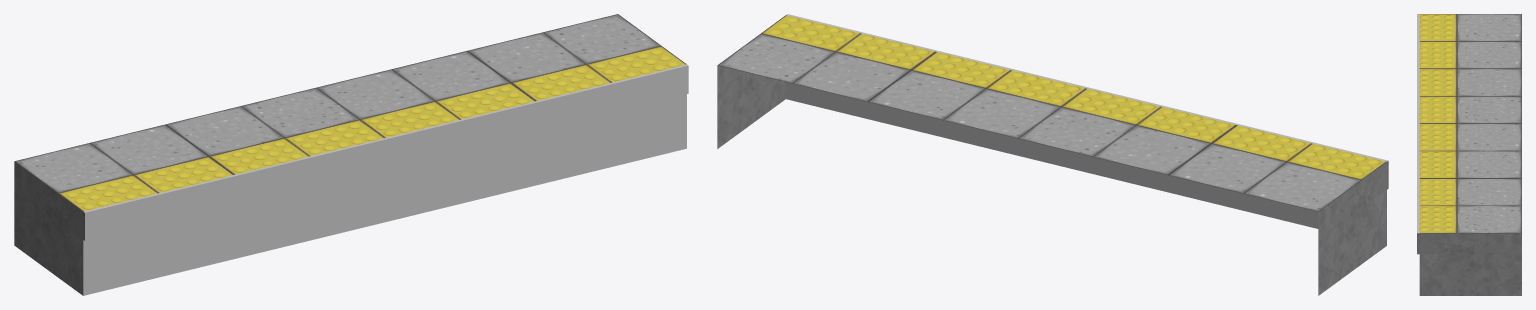
The model's file is SM_Platform_Stop_8m.fbx.
3 views of the same model, side by side, from view 1: azimuth 30°, elevation 25°; view 2: azimuth 150°, elevation 25°; view 3: azimuth 270°, elevation 25° (orthographic). The views are drawn at different scales.
Parts seen in each view (by area): view 1: SM_Platform_Stop_8m; view 2: SM_Platform_Stop_8m; view 3: SM_Platform_Stop_8m.
Boxes of the visible parts, box(x1,y1,x2,y2) form: SM_Platform_Stop_8m: box(14, 14, 688, 295); SM_Platform_Stop_8m: box(717, 14, 1388, 295); SM_Platform_Stop_8m: box(1417, 14, 1521, 295).
Size of the model in its own units: 800 by 107 by 162.
